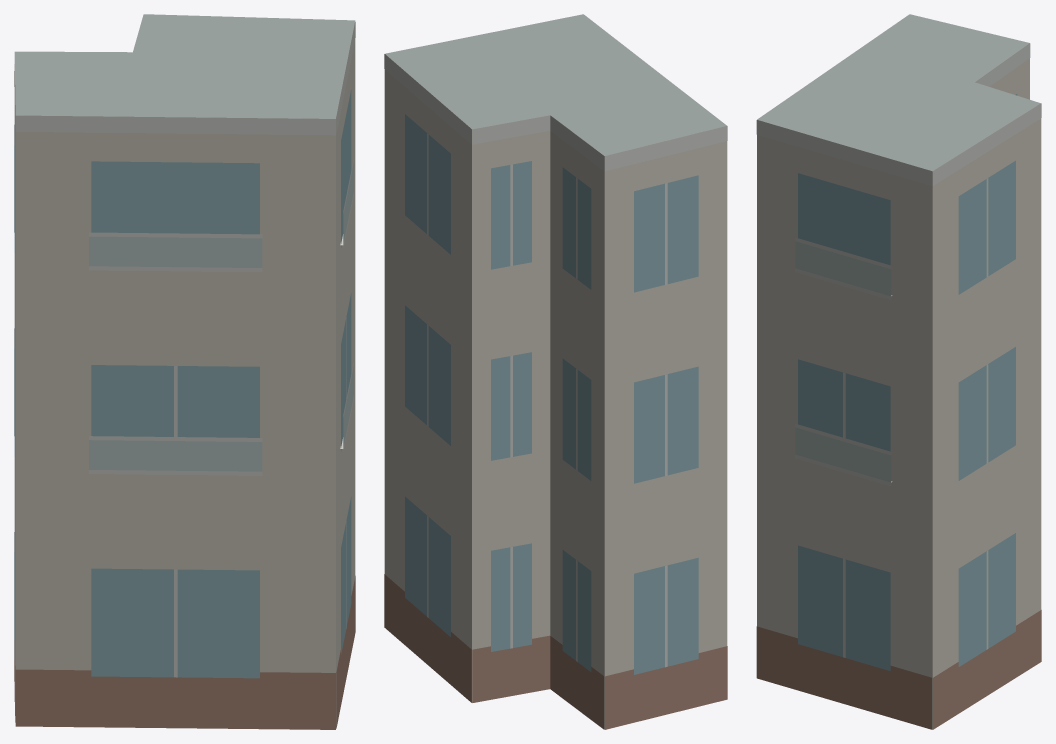
The model's file is survey-upis-32707455.glb.
3 renders of one model, left to right at view 1: azimuth 30°, elevation 25°; view 2: azimuth 150°, elevation 25°; view 3: azimuth 270°, elevation 25°, orthographic. The views are drawn at different scales.
Visible parts, largest first — view 1: survey-upis-32707455.tmp; view 2: survey-upis-32707455.tmp; view 3: survey-upis-32707455.tmp.
Part boxes in pixels (<box>): survey-upis-32707455.tmp: <box>14,14,355,729</box>; survey-upis-32707455.tmp: <box>384,14,727,729</box>; survey-upis-32707455.tmp: <box>756,14,1041,729</box>.
Size of the model in its own units: 5.53 by 9.15 by 4.23.
